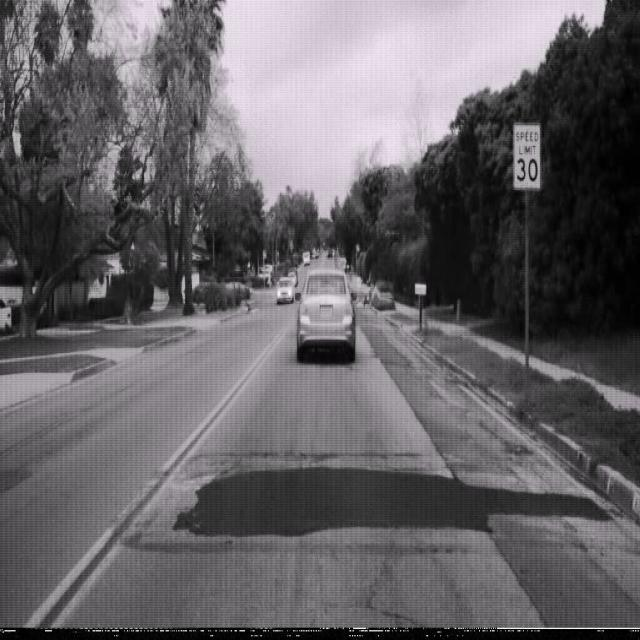speedLimit30: (512, 120, 542, 190)
